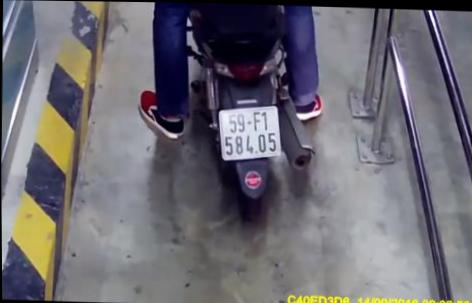LP: (216, 102, 283, 162)
